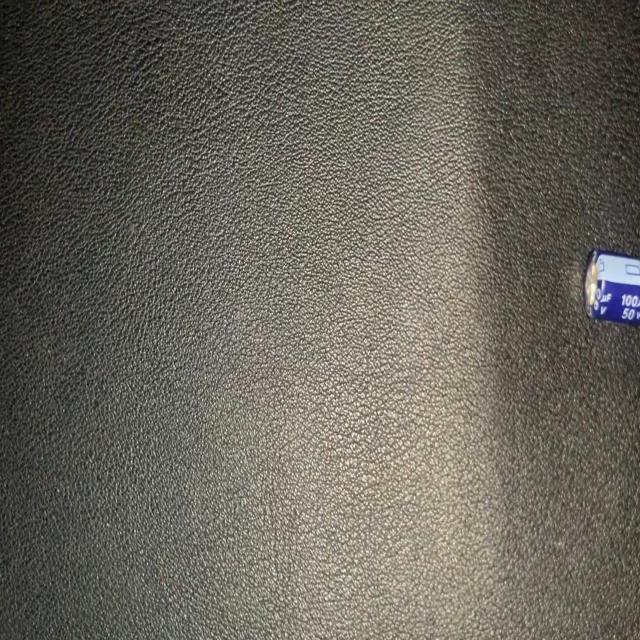capacitor: (584, 244, 640, 329)
